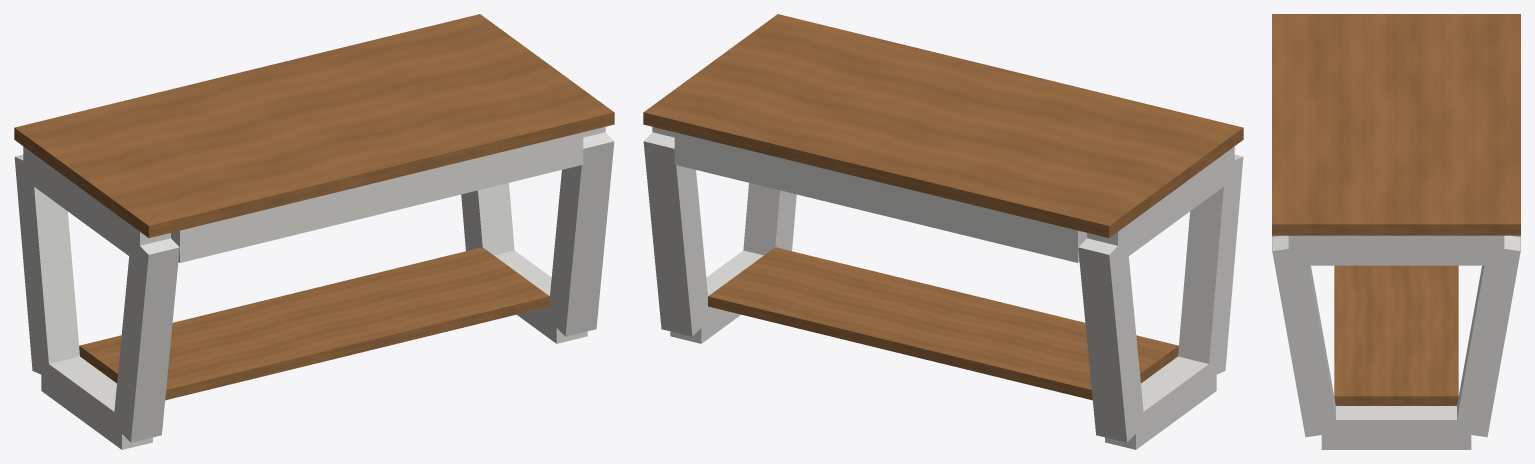
Rendered from mesa-living-nord-estante-roble-blanco.glb.
3 views of the same model, side by side, from view 1: azimuth 30°, elevation 25°; view 2: azimuth 150°, elevation 25°; view 3: azimuth 270°, elevation 25° (orthographic). The views are drawn at different scales.
Visible parts, largest first — view 1: Tapa de madera maciza 120 x 60 x 3 cm, Pata inclinada hacia adentro, perfil 80 x 80 mm (×4), Estante inferior de madera (proporción aproximada), Larguero longitudinal superior de hierro 80 x 80 mm, Travesaño inferior del trapecio, ancho exterior 44 cm (×2), Travesaño superior del trapecio, ancho exterior 60 cm; view 2: Tapa de madera maciza 120 x 60 x 3 cm, Pata inclinada hacia adentro, perfil 80 x 80 mm (×4), Estante inferior de madera (proporción aproximada), Larguero longitudinal superior de hierro 80 x 80 mm, Travesaño inferior del trapecio, ancho exterior 44 cm (×2), Travesaño superior del trapecio, ancho exterior 60 cm; view 3: Tapa de madera maciza 120 x 60 x 3 cm, Estante inferior de madera (proporción aproximada), Pata inclinada hacia adentro, perfil 80 x 80 mm (×2), Travesaño superior del trapecio, ancho exterior 60 cm, Travesaño inferior del trapecio, ancho exterior 44 cm.
Part boxes in pixels (left/top/right/bottom): Tapa de madera maciza 120 x 60 x 3 cm: left=14, top=14, right=614, bottom=237; Pata inclinada hacia adentro, perfil 80 x 80 mm (×4): left=14, top=132, right=614, bottom=442; Estante inferior de madera (proporción aproximada): left=79, top=247, right=549, bottom=400; Larguero longitudinal superior de hierro 80 x 80 mm: left=171, top=132, right=583, bottom=262; Travesaño inferior del trapecio, ancho exterior 44 cm (×2): left=41, top=250, right=587, bottom=449; Travesaño superior del trapecio, ancho exterior 60 cm: left=23, top=146, right=170, bottom=263; Tapa de madera maciza 120 x 60 x 3 cm: left=643, top=14, right=1243, bottom=237; Pata inclinada hacia adentro, perfil 80 x 80 mm (×4): left=643, top=132, right=1243, bottom=442; Estante inferior de madera (proporción aproximada): left=708, top=247, right=1178, bottom=400; Larguero longitudinal superior de hierro 80 x 80 mm: left=674, top=132, right=1086, bottom=262; Travesaño inferior del trapecio, ancho exterior 44 cm (×2): left=670, top=250, right=1216, bottom=449; Travesaño superior del trapecio, ancho exterior 60 cm: left=1087, top=146, right=1234, bottom=263; Tapa de madera maciza 120 x 60 x 3 cm: left=1272, top=14, right=1520, bottom=235; Estante inferior de madera (proporción aproximada): left=1334, top=265, right=1458, bottom=405; Pata inclinada hacia adentro, perfil 80 x 80 mm (×2): left=1272, top=235, right=1520, bottom=437; Travesaño superior del trapecio, ancho exterior 60 cm: left=1288, top=235, right=1504, bottom=265; Travesaño inferior del trapecio, ancho exterior 44 cm: left=1321, top=406, right=1471, bottom=449.
Bounding box in the file's own units: 1.2 × 0.6 × 0.6.
Materials: 2 (1 with a texture image).
